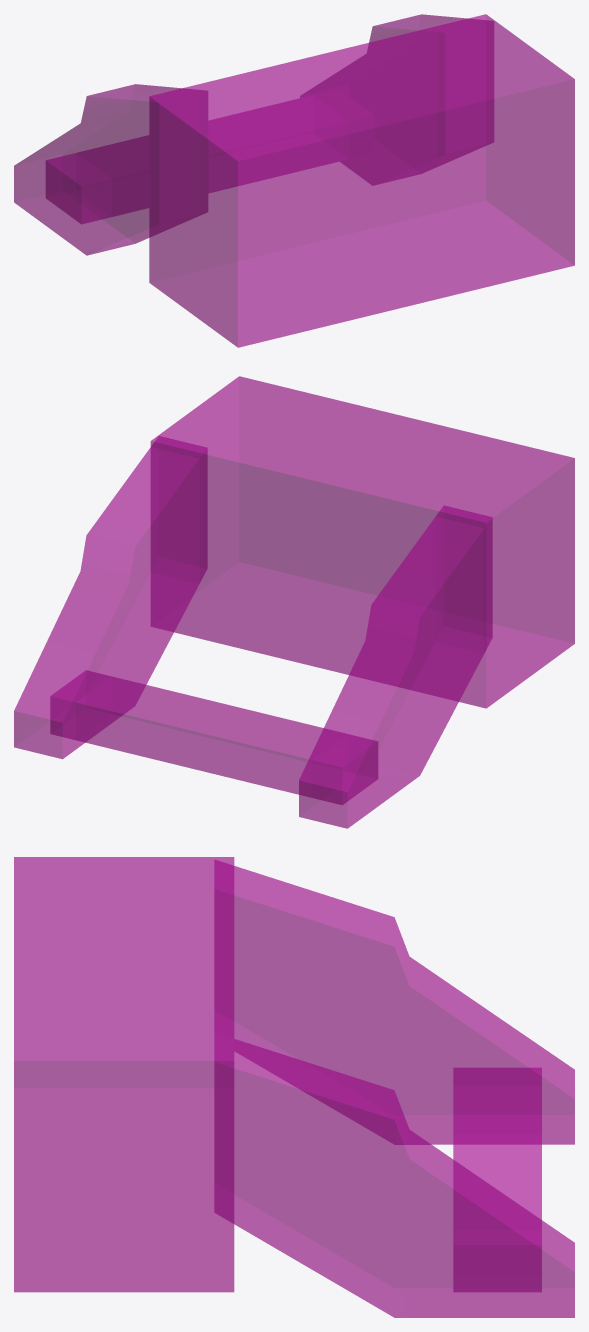
The model's file is SM_Wep_Cannon_01_Collision.fbx.
The picture shows the model from 3 angles, top to bottom: view 1: azimuth 30°, elevation 25°; view 2: azimuth 150°, elevation 25°; view 3: azimuth 270°, elevation 25°; orthographic projection. The views are drawn at different scales.
Visible parts, largest first — view 1: SM_Wep_Cannon_01_Collision; view 2: SM_Wep_Cannon_01_Collision; view 3: SM_Wep_Cannon_01_Collision.
Part boxes in pixels (x1,y1,x2,y2): SM_Wep_Cannon_01_Collision: (14,14,574,347); SM_Wep_Cannon_01_Collision: (14,376,574,828); SM_Wep_Cannon_01_Collision: (14,857,574,1317).
Size of the model in its own units: 125 by 73.58 by 146.
